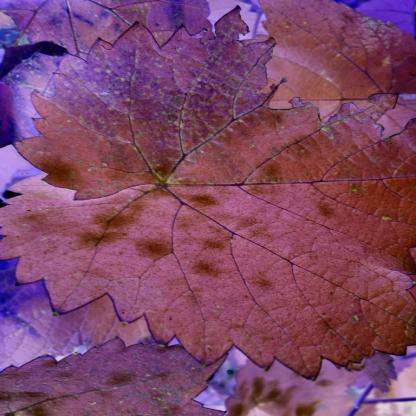Squash Powdery mildew leaf: (5, 9, 415, 389)
